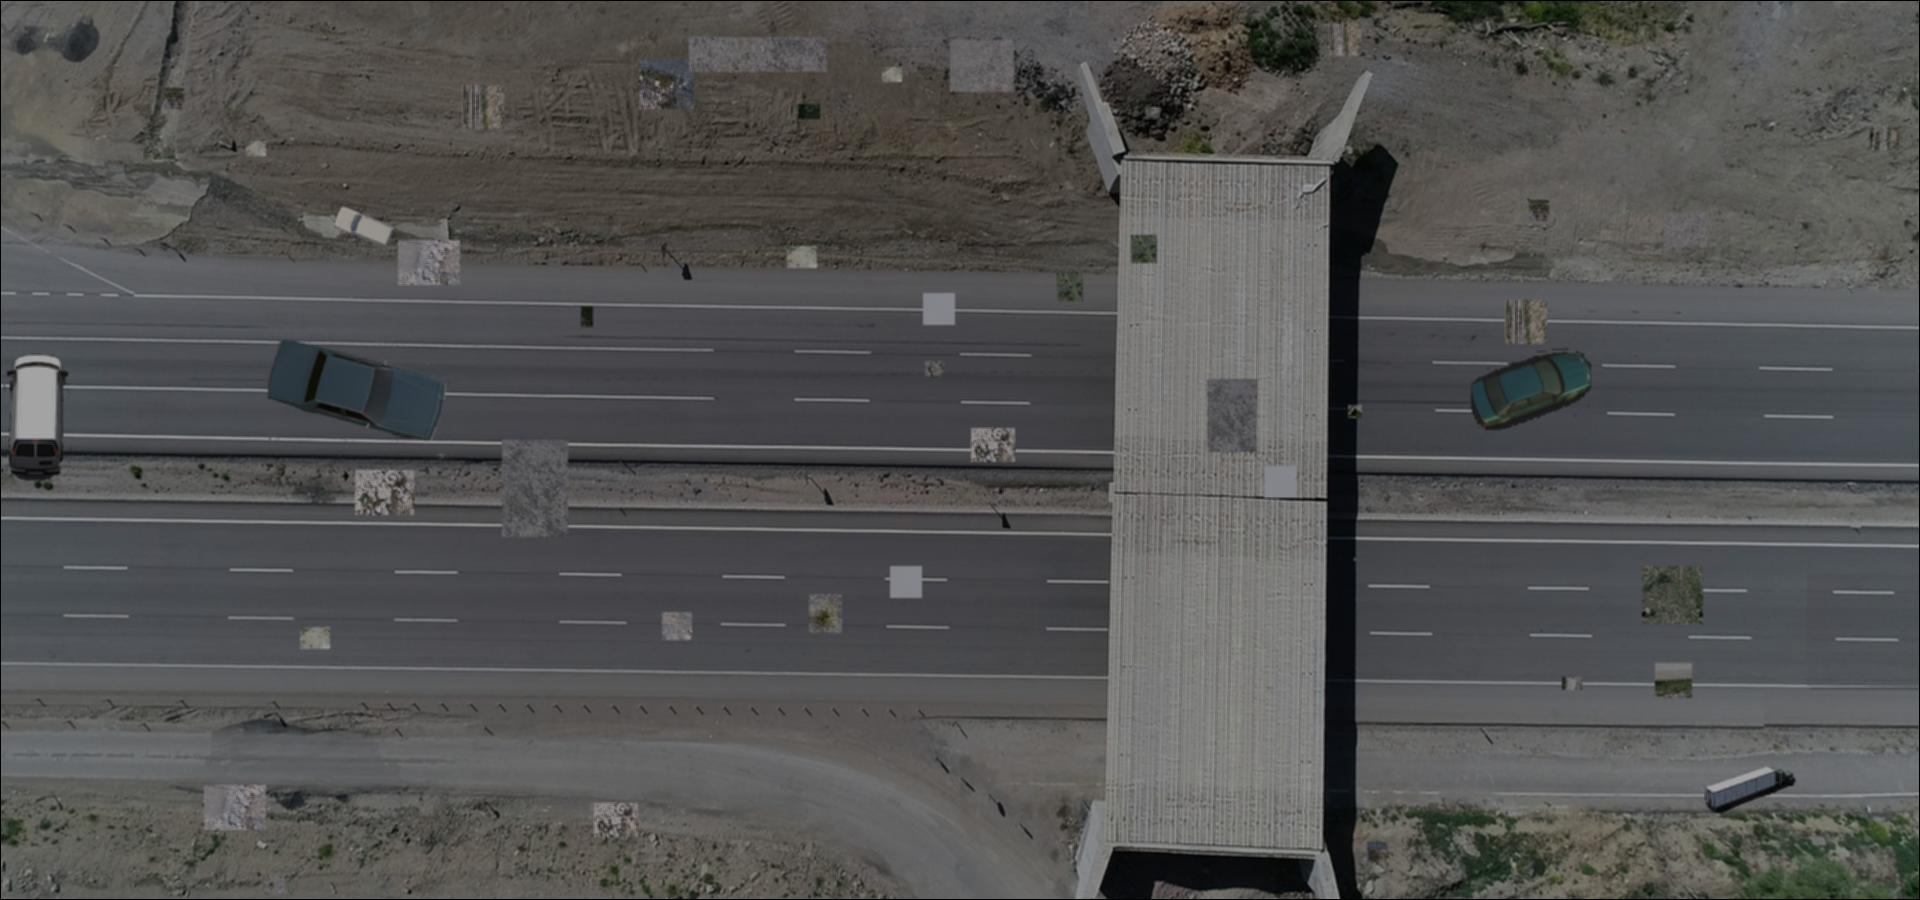arac: (268, 338, 448, 441), (1471, 348, 1591, 430), (4, 351, 71, 481), (1701, 767, 1796, 813), (331, 204, 396, 245)
